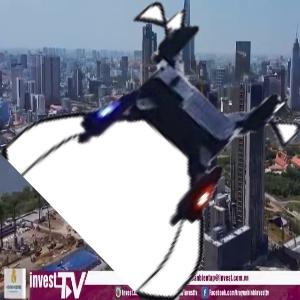drone: (39, 17, 290, 268)
